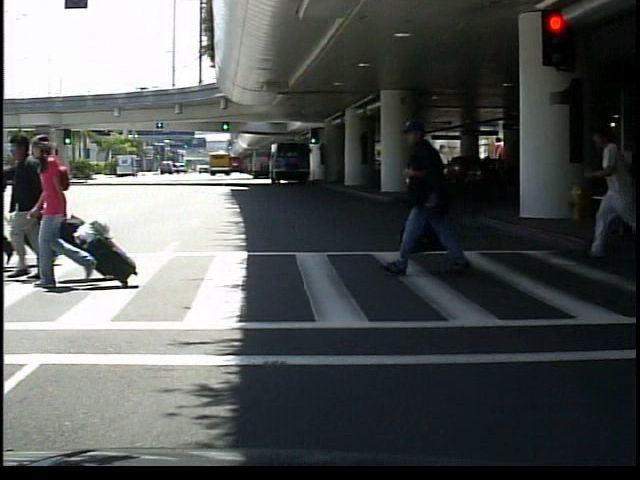person: (384, 112, 479, 277), (591, 114, 640, 265)
